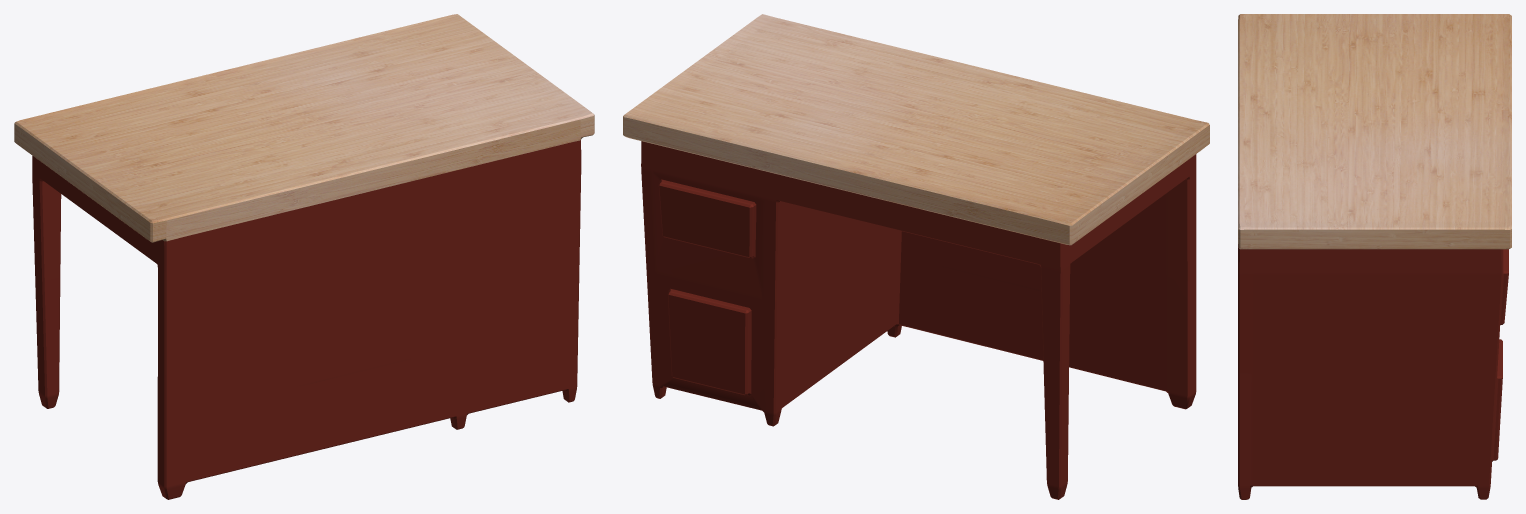
Rendered from table.fbx.
The picture shows the model from 3 angles, left to right: view 1: azimuth 30°, elevation 25°; view 2: azimuth 150°, elevation 25°; view 3: azimuth 270°, elevation 25°; orthographic projection.
Parts seen in each view (by area): view 1: Desk_Poly_Desk_Texture_0; view 2: Desk_Poly_Desk_Texture_0; view 3: Desk_Poly_Desk_Texture_0.
Part boxes in pixels (left/top/right/bottom): Desk_Poly_Desk_Texture_0: left=14, top=14, right=594, bottom=499; Desk_Poly_Desk_Texture_0: left=623, top=14, right=1209, bottom=499; Desk_Poly_Desk_Texture_0: left=1238, top=14, right=1511, bottom=499.
Bounding box in the file's own units: 11.39 × 6.13 × 6.97.
Materials: 1 (1 with a texture image).
